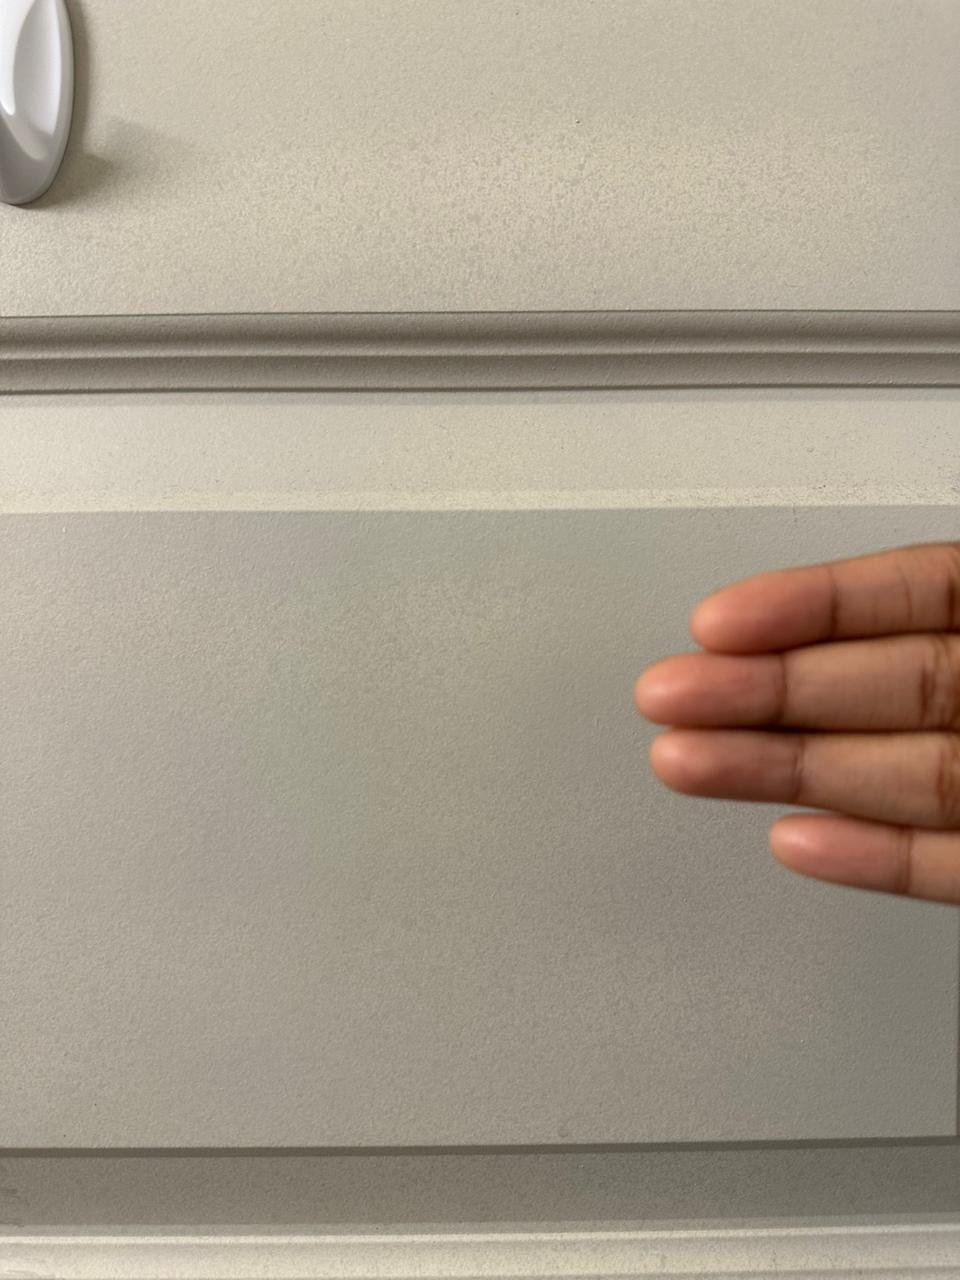finger: (635, 730, 805, 813), (618, 652, 788, 735), (761, 811, 911, 905), (676, 565, 836, 651)
